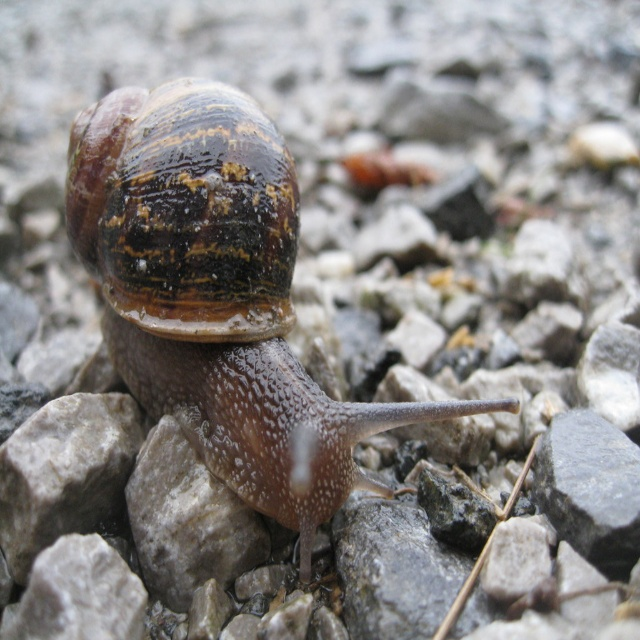Snail: (63, 68, 522, 586)
